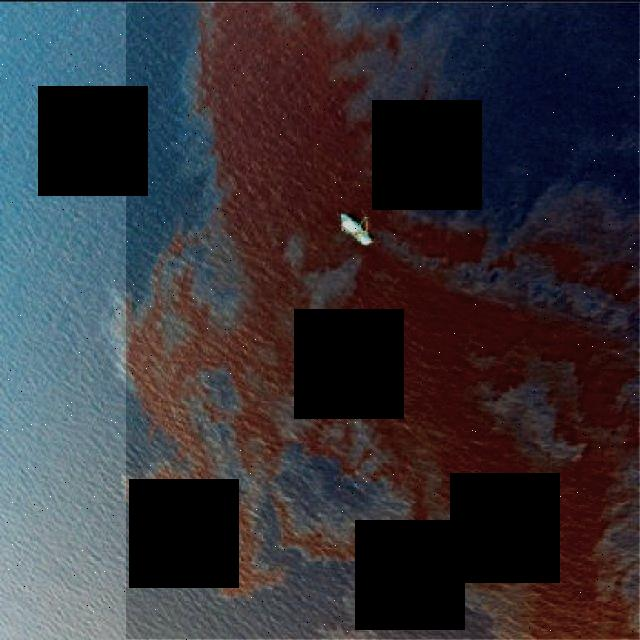oil spill: (126, 3, 640, 640)
